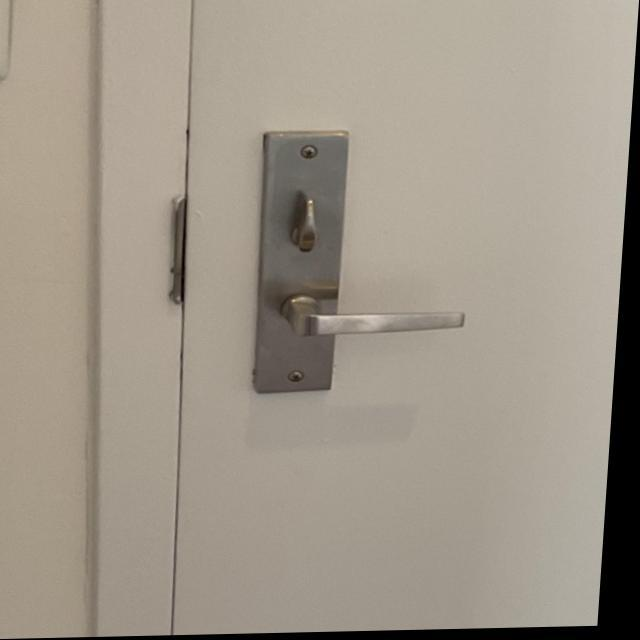door_handle: (267, 288, 492, 349)
